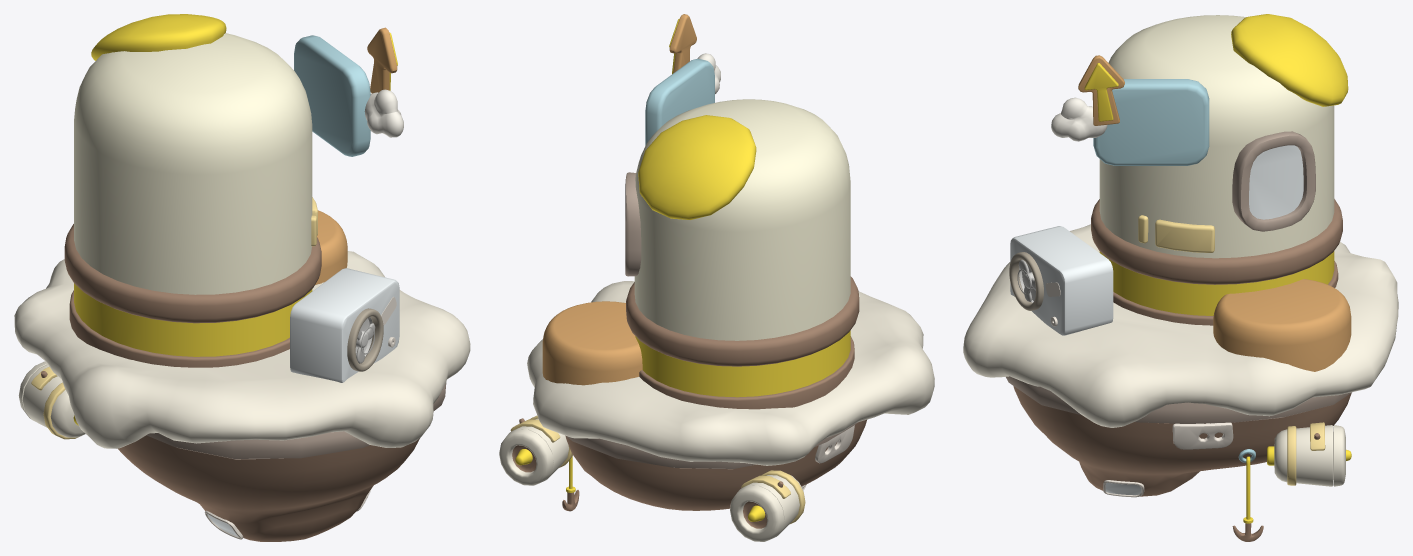
The model's file is 1yellow.glb.
3 views of the same model, side by side, from view 1: azimuth 30°, elevation 25°; view 2: azimuth 150°, elevation 25°; view 3: azimuth 270°, elevation 25° (orthographic). The views are drawn at different scales.
Parts seen in each view (by area): view 1: MB___胶囊_1, Retopo_Group4093, Retopo_MeshBoolean_v1_2, MeshBoolean_v1_1_2, MB___胶囊, 立方体, Retopo_MeshBoolean_v1, Retopo_立方体, MB___胶囊_5, 圆柱_1_3, MB___胶囊_2, Retopo_Bubble_Cloud_2 (+2 smaller); view 2: MB___胶囊_1, Retopo_Group4093, Retopo_MeshBoolean_v1, Retopo_MeshBoolean_v1_2, MB___胶囊_2, MB___胶囊, 立方体, MB___胶囊_5, 圆柱_2_2, 圆柱_2_3, Retopo_立方体, Retopo_挤压_1 (+4 smaller); view 3: Retopo_Group4093, MB___胶囊_1, Retopo_MeshBoolean_v1_2, MB___胶囊_2, 立方体, MeshBoolean_v1_1_2, MB___胶囊, Retopo_MeshBoolean_v1, Retopo_挤压_1, 挤压_2, Retopo_立方体, 圆柱_1_2 (+9 smaller).
Part boxes in pixels (box(x1,y1,x2,y2)): MB___胶囊_1: box(74, 33, 312, 356); Retopo_Group4093: box(14, 251, 470, 448); Retopo_MeshBoolean_v1_2: box(118, 435, 419, 541); MeshBoolean_v1_1_2: box(290, 268, 399, 382); MB___胶囊: box(64, 224, 321, 323); 立方体: box(294, 35, 370, 156); Retopo_MeshBoolean_v1: box(91, 14, 226, 60); Retopo_立方体: box(146, 383, 446, 459); MB___胶囊_5: box(69, 290, 289, 367); 圆柱_1_3: box(22, 365, 85, 437); MB___胶囊_2: box(315, 210, 347, 284); Retopo_Bubble_Cloud_2: box(364, 89, 403, 137); MB___胶囊_1: box(634, 99, 850, 397); Retopo_Group4093: box(527, 281, 934, 465); Retopo_MeshBoolean_v1: box(638, 115, 756, 219); Retopo_MeshBoolean_v1_2: box(565, 419, 866, 510); MB___胶囊_2: box(542, 301, 642, 385); MB___胶囊: box(626, 276, 859, 366); 立方体: box(645, 58, 714, 145); MB___胶囊_5: box(639, 336, 854, 409); 圆柱_2_2: box(499, 429, 553, 485); 圆柱_2_3: box(730, 485, 784, 541); Retopo_立方体: box(566, 422, 857, 469); Retopo_挤压_1: box(625, 172, 641, 276); Retopo_Group4093: box(963, 224, 1398, 427); MB___胶囊_1: box(1099, 15, 1334, 315); Retopo_MeshBoolean_v1_2: box(1013, 386, 1351, 496); MB___胶囊_2: box(1213, 279, 1351, 371); 立方体: box(1093, 79, 1209, 165); MeshBoolean_v1_1_2: box(1010, 226, 1113, 335); MB___胶囊: box(1091, 199, 1342, 284); Retopo_MeshBoolean_v1: box(1231, 14, 1348, 106); Retopo_挤压_1: box(1232, 131, 1315, 231); 挤压_2: box(1249, 145, 1303, 219); Retopo_立方体: box(1006, 376, 1351, 423); 圆柱_1_2: box(1274, 425, 1333, 486).
Bounding box in the file's own units: 0.3396 × 0.4273 × 0.363.
